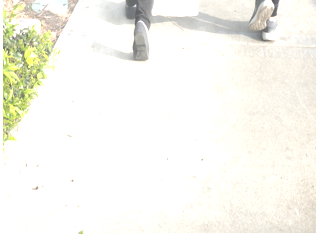Edge: (1, 3, 77, 139)
Obstacle: (250, 0, 287, 58), (119, 1, 156, 59)
